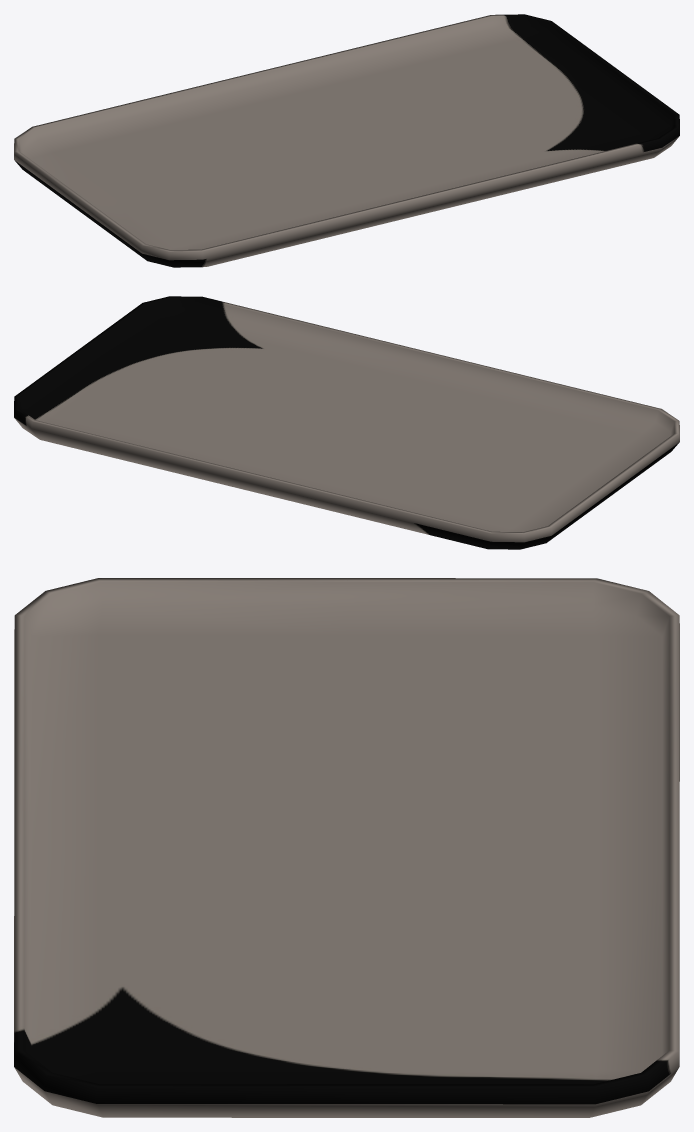
File: Dojo_Plate.fbx
3 renders of one model, top to bottom at view 1: azimuth 30°, elevation 25°; view 2: azimuth 150°, elevation 25°; view 3: azimuth 270°, elevation 25°, orthographic. The views are drawn at different scales.
Visible parts, largest first — view 1: polySurface1; view 2: polySurface1; view 3: polySurface1.
Part boxes in pixels (left/top/right/bottom): polySurface1: left=14, top=14, right=679, bottom=267; polySurface1: left=14, top=296, right=679, bottom=549; polySurface1: left=14, top=578, right=679, bottom=1117.
Size of the model in its own units: 67.46 by 2.19 by 37.15.
